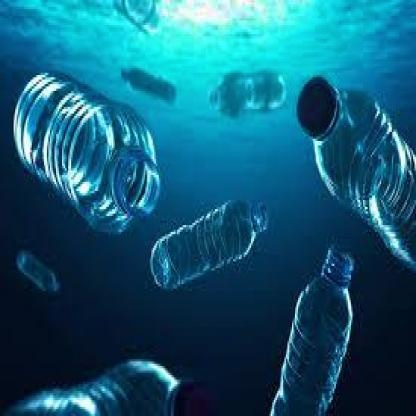pbottle: (295, 61, 416, 273), (13, 68, 166, 234), (258, 229, 357, 416), (1, 350, 230, 416), (149, 193, 282, 286), (203, 62, 289, 121), (116, 48, 178, 111), (12, 243, 70, 305)
